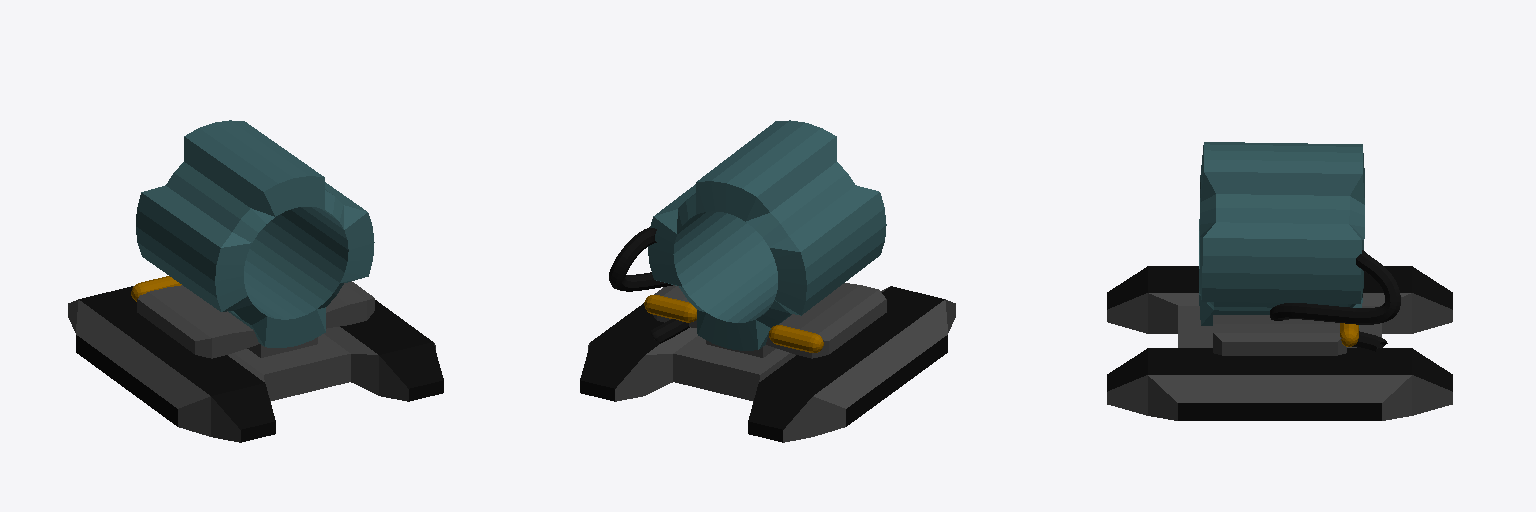
The model's file is Vortex1obj.obj.
3 renders of one model, left to right at view 1: azimuth 30°, elevation 25°; view 2: azimuth 150°, elevation 25°; view 3: azimuth 270°, elevation 25°, orthographic.
Parts seen in each view (by area): view 1: Tube.1, Box, Capsule.1; view 2: Tube.1, Box, Sweep, Capsule.1, Capsule; view 3: Box, Tube.1, Sweep.
Boxes of the visible parts, x1,y1,x2,y2 form: Tube.1: [136, 120, 374, 347]; Box: [68, 281, 443, 442]; Capsule.1: [131, 276, 181, 301]; Tube.1: [648, 120, 886, 350]; Box: [580, 283, 955, 442]; Sweep: [609, 227, 689, 343]; Capsule.1: [769, 325, 823, 352]; Capsule: [644, 295, 696, 322]; Box: [1107, 266, 1452, 420]; Tube.1: [1199, 142, 1364, 327]; Sweep: [1270, 250, 1400, 351].
Bounding box in the file's own units: 1.78 × 1.39 × 2.06.